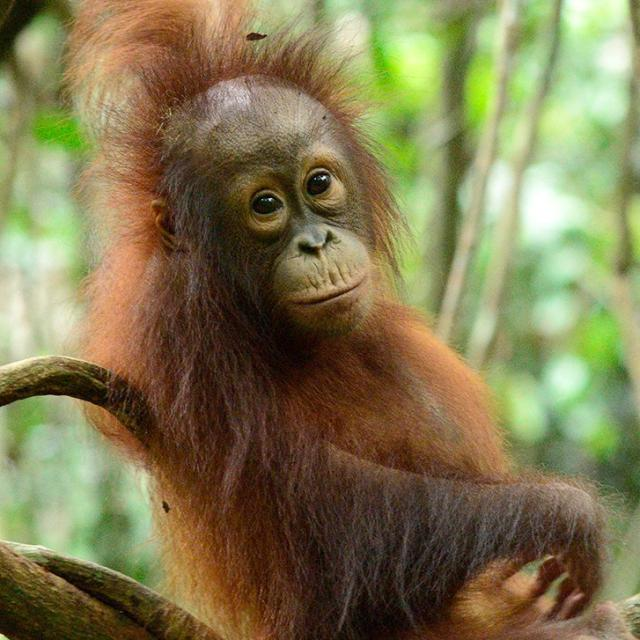Orangutan: (111, 21, 564, 628)
